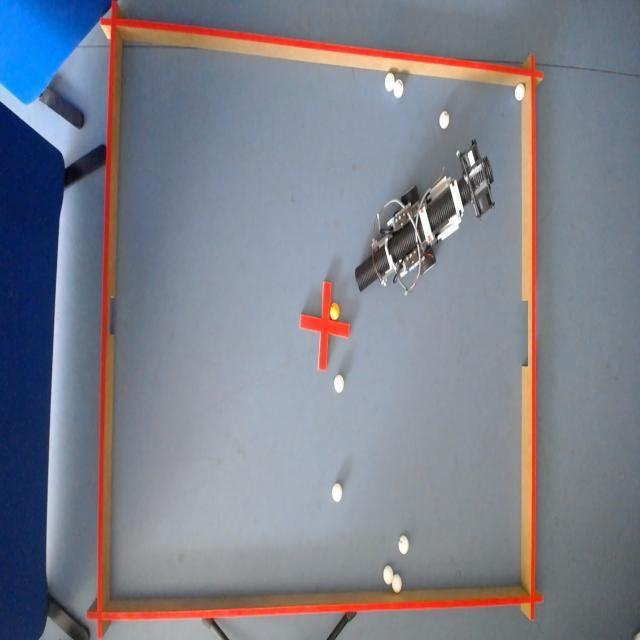orange: (330, 302, 340, 321)
robot: (360, 144, 500, 291)
white: (381, 565, 394, 588), (333, 372, 344, 394), (332, 482, 344, 502), (398, 534, 410, 554), (514, 82, 526, 101), (385, 72, 395, 94), (392, 574, 404, 592), (394, 80, 406, 98), (438, 110, 449, 128)
